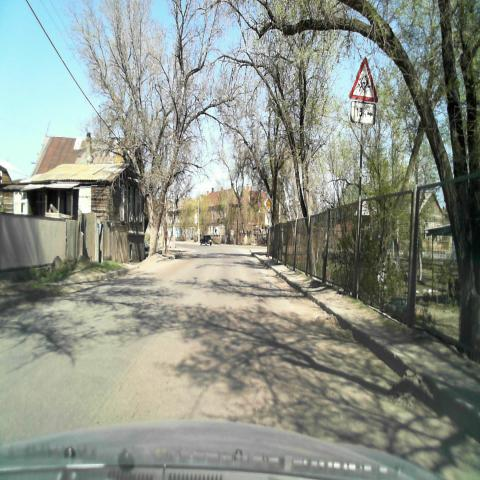8_1_3: (350, 102, 376, 126)
